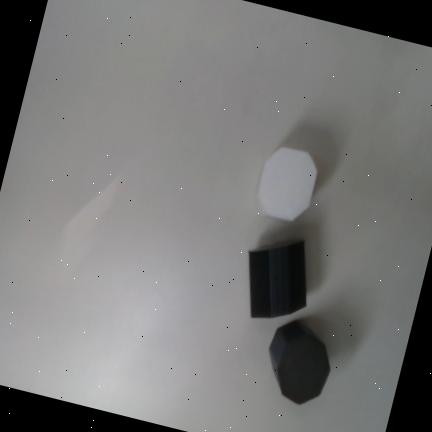Prisma_hexagonal: (268, 320, 330, 404), (254, 147, 317, 221), (248, 241, 306, 318)
